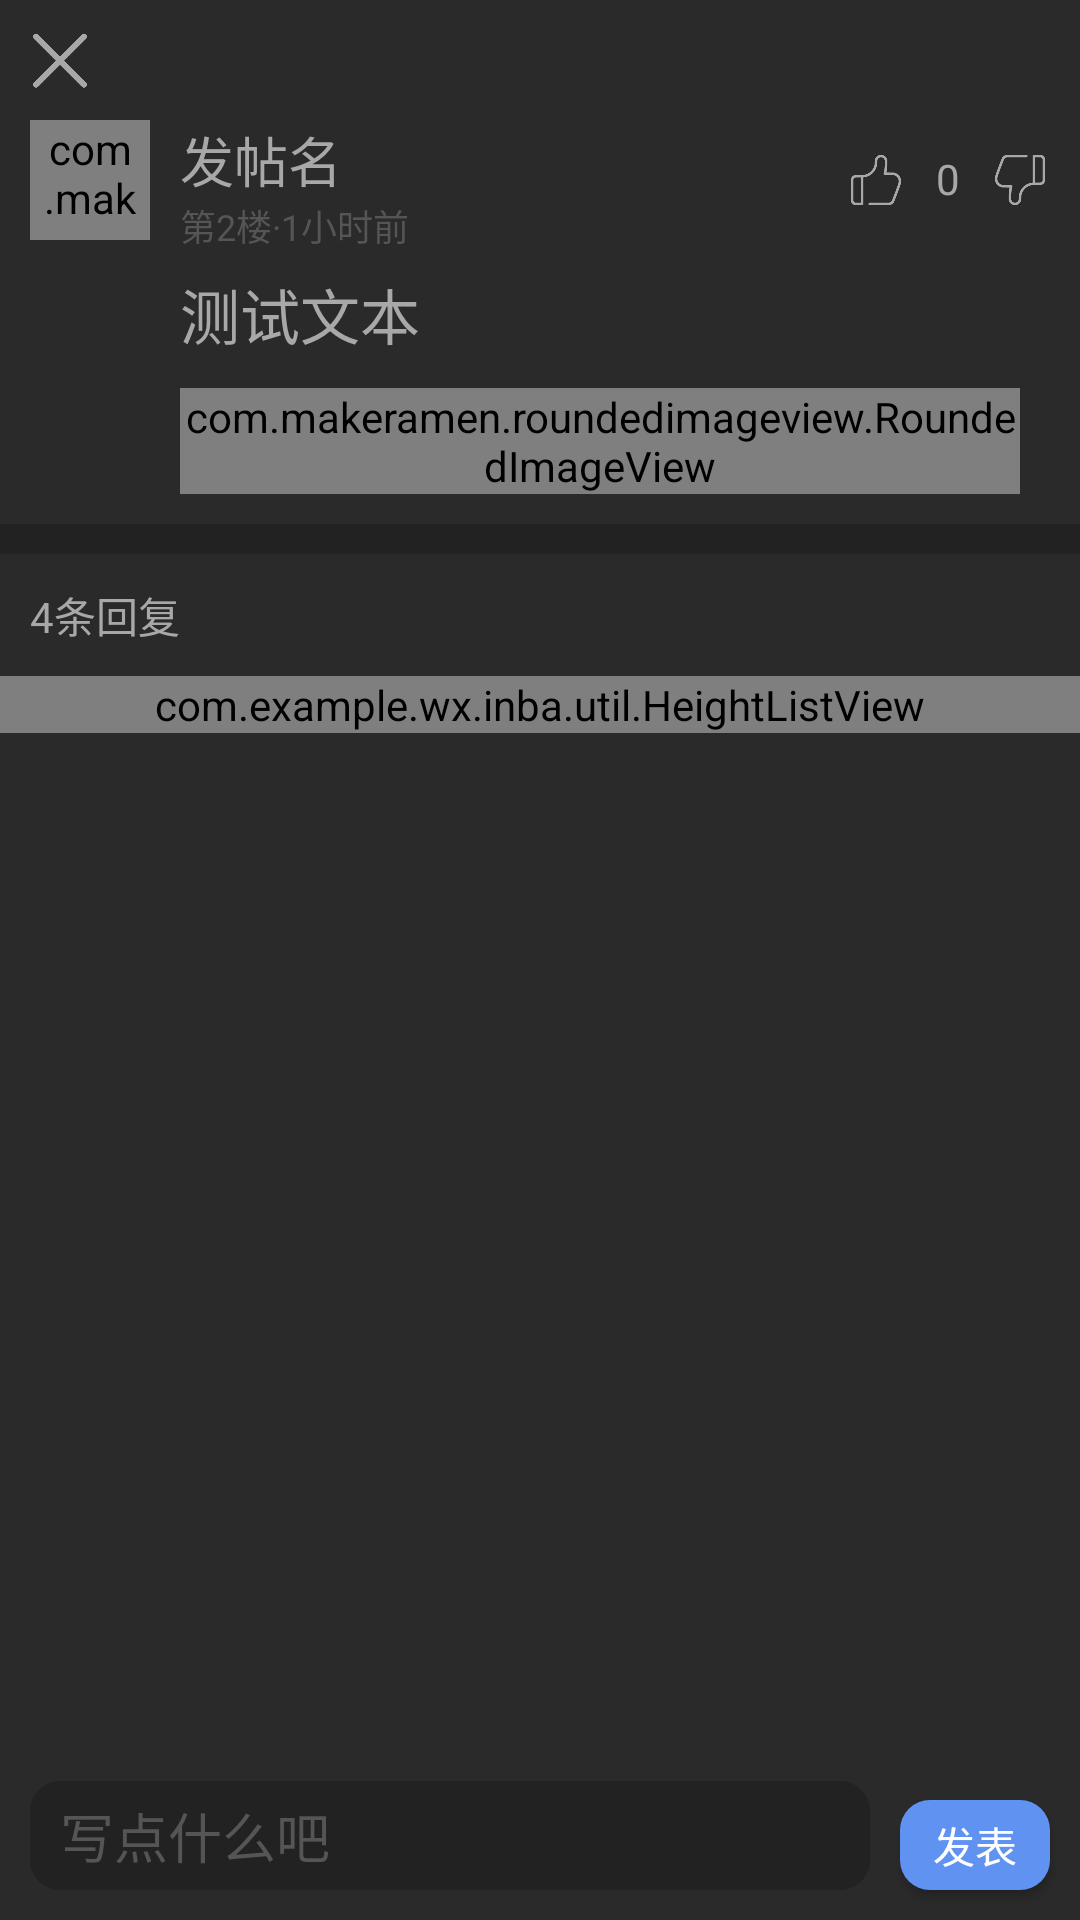

Screen size 1080*1920. Icon name, then its box in pixels as (x1, y1, x2, y2):
cai: (995, 155, 1045, 205)
close: (33, 34, 87, 88)
zan: (851, 155, 901, 205)
